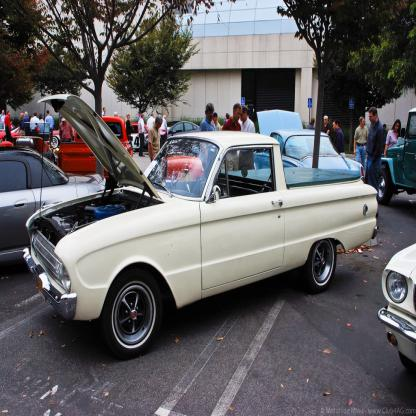Car: (0, 92, 416, 379)
